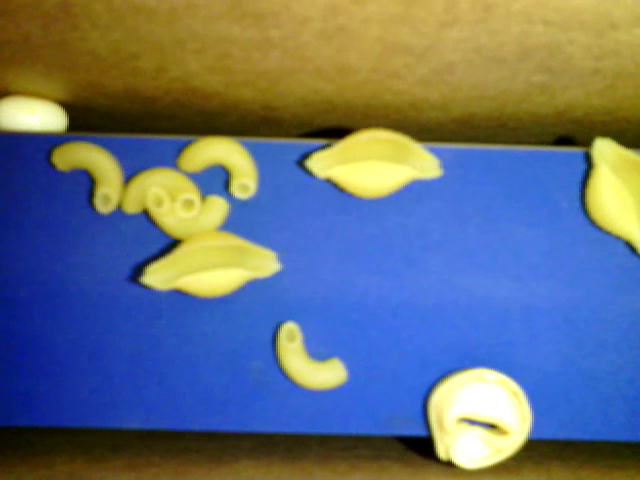elbow: (177, 134, 258, 200), (275, 320, 349, 392), (52, 141, 121, 213), (147, 186, 230, 240), (117, 166, 199, 215)
shell: (303, 125, 443, 200), (138, 230, 282, 298), (584, 134, 638, 257)
tortellini: (427, 365, 533, 468)
